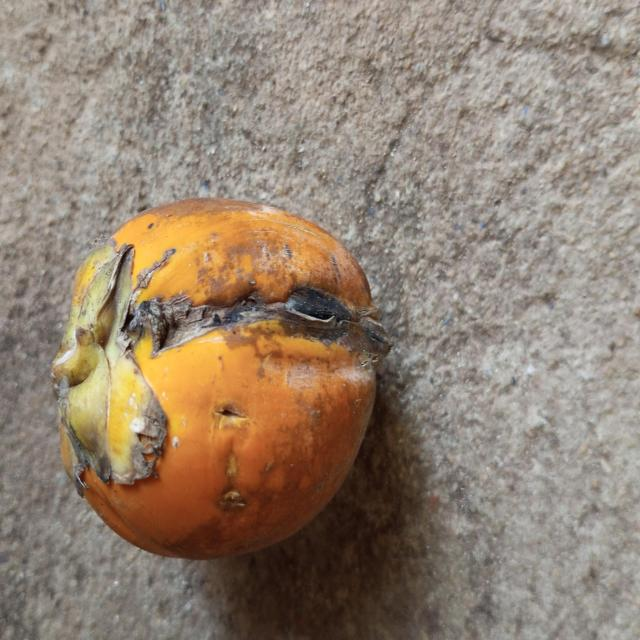damaged: (52, 199, 393, 558)
